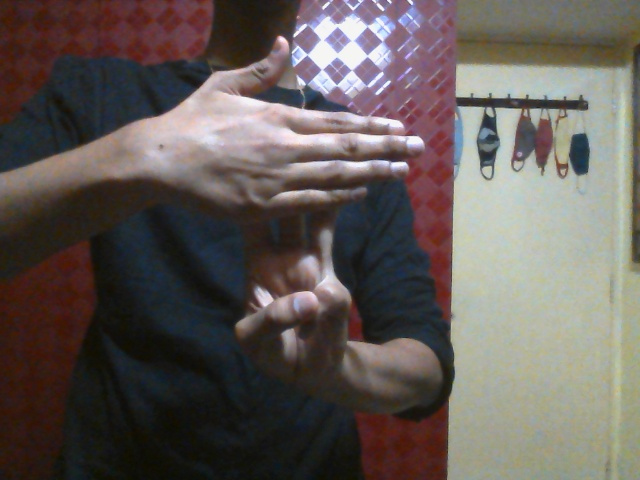M: (164, 34, 428, 379)
